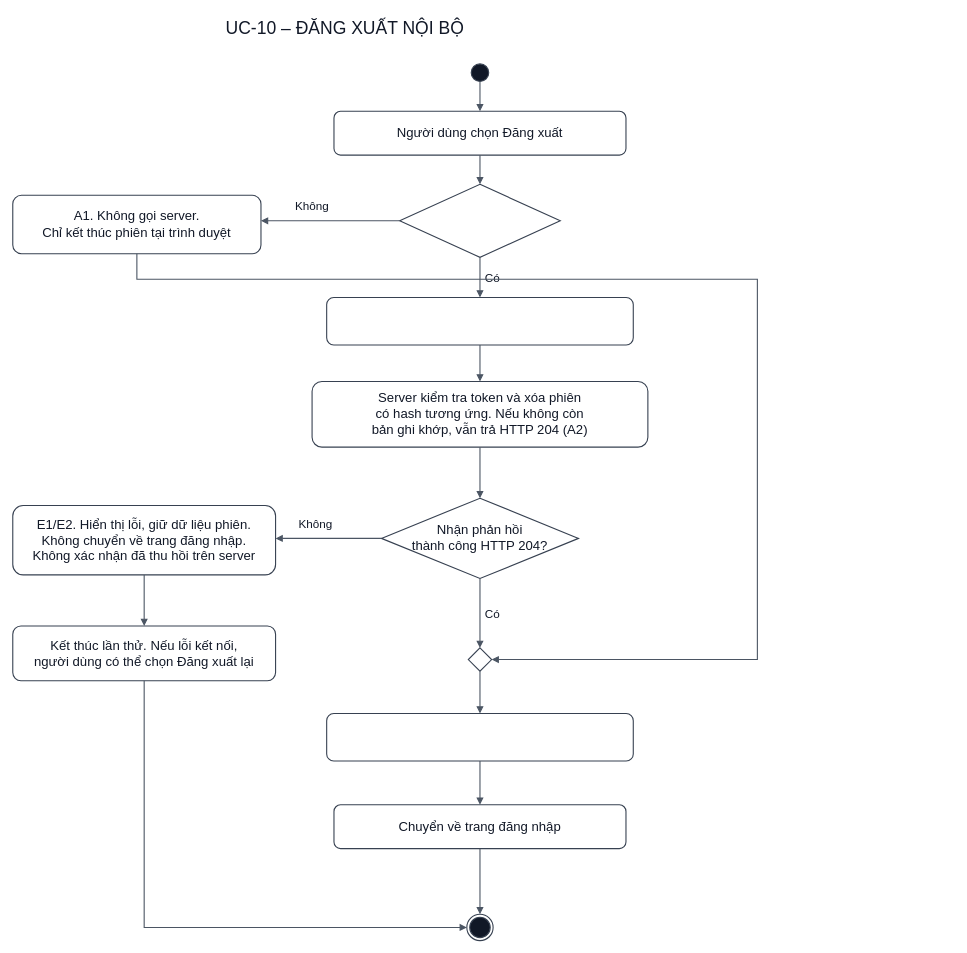
This 967x953 diagram has some shape labels left out. Here are the shapes that lost their labels. From the top down, the centre of each, then its label:
pixel 479 220: Trình duyệt còn refresh token?
pixel 479 321: Giao diện gửi yêu cầu đăng xuất kèm refresh token
pixel 479 737: Xóa dữ liệu phiên đăng nhập trong sessionStorage
